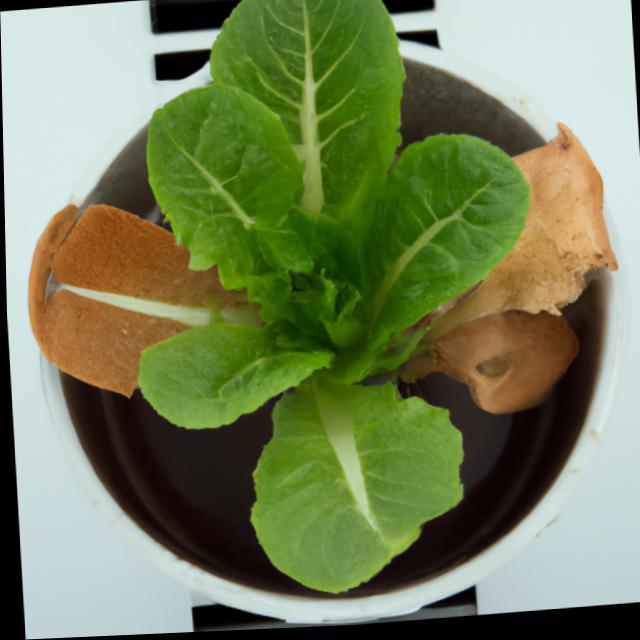-K: (7, 0, 638, 632)
